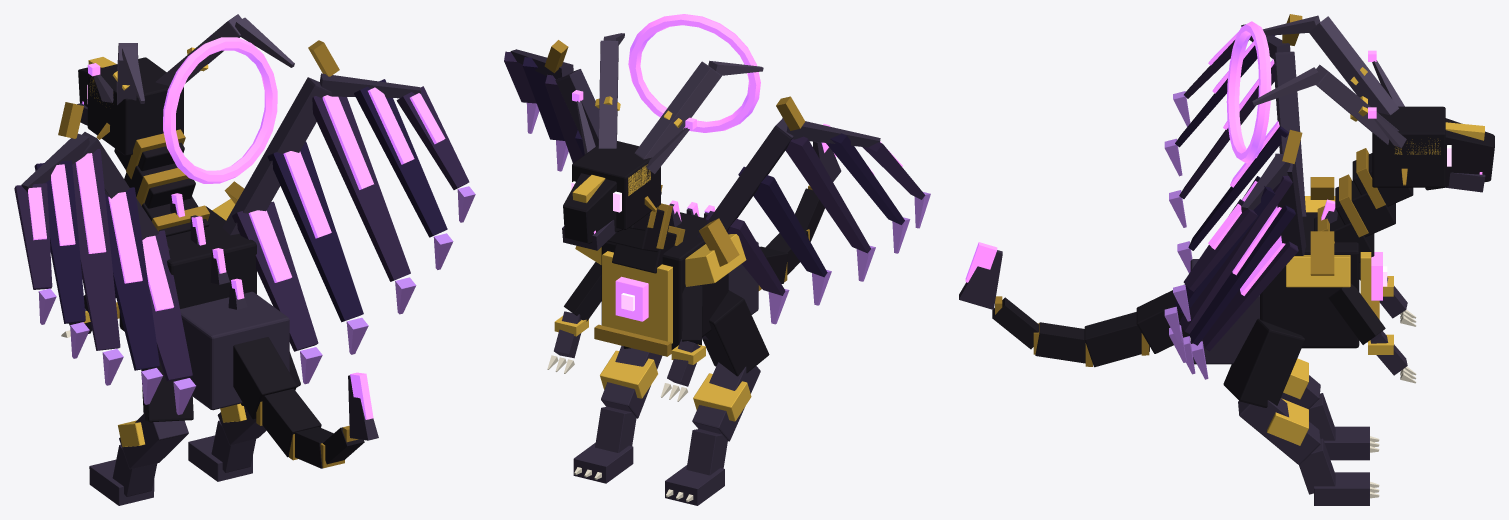
The model's file is nightflame.glb.
3 renders of one model, left to right at view 1: azimuth 30°, elevation 25°; view 2: azimuth 150°, elevation 25°; view 3: azimuth 270°, elevation 25°, orthographic. The views are drawn at different scales.
Visible parts, largest first — view 1: wing.L, wing.R, body, head, tail, leg.FR, leg.FL, ear.L, ear.R; view 2: body, wing.R, head, leg.FR, wing.L, leg.FL, ear.R, ear.L, arm.L, arm.R, tail; view 3: body, wing.L, head, leg.FL, tail, wing.R, ear.R, leg.FR, ear.L, arm.L, arm.R.
Part boxes in pixels (bbox=[...]): wing.L: bbox=[222, 40, 475, 384]; wing.R: bbox=[14, 102, 195, 414]; body: bbox=[116, 37, 289, 410]; head: bbox=[77, 57, 209, 236]; tail: bbox=[233, 337, 378, 468]; leg.FR: bbox=[89, 359, 193, 505]; leg.FL: bbox=[188, 352, 300, 481]; ear.L: bbox=[155, 14, 294, 85]; ear.R: bbox=[87, 43, 144, 104]; body: bbox=[575, 14, 760, 356]; wing.R: bbox=[697, 96, 930, 324]; head: bbox=[562, 141, 685, 273]; leg.FR: bbox=[665, 290, 769, 505]; wing.L: bbox=[504, 40, 599, 171]; leg.FL: bbox=[573, 345, 662, 483]; ear.R: bbox=[634, 60, 763, 173]; ear.L: bbox=[572, 33, 624, 154]; arm.L: bbox=[547, 262, 601, 373]; arm.R: bbox=[661, 285, 705, 401]; tail: bbox=[758, 124, 841, 290]; body: bbox=[1190, 21, 1387, 364]; wing.L: bbox=[1164, 129, 1306, 379]; head: bbox=[1314, 106, 1494, 262]; leg.FL: bbox=[1223, 318, 1379, 505]; tail: bbox=[959, 242, 1189, 367]; wing.R: bbox=[1164, 14, 1306, 273]; ear.R: bbox=[1263, 15, 1404, 115]; leg.FR: bbox=[1281, 358, 1379, 460]; ear.L: bbox=[1252, 64, 1406, 147]; arm.L: bbox=[1328, 283, 1416, 383]; arm.R: bbox=[1359, 262, 1416, 326].
Size of the model in its own units: 0.9668 by 1 by 1.09.
